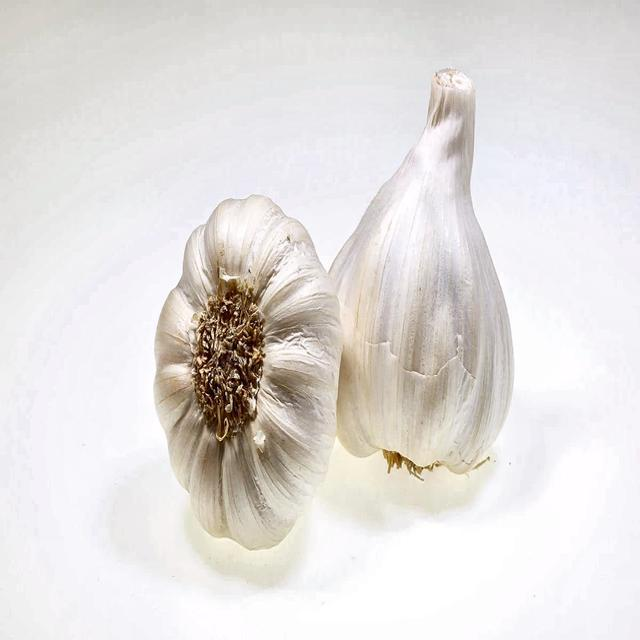garlic: (330, 69, 512, 474), (154, 195, 341, 549)
